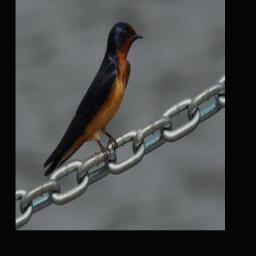Swallow: (43, 21, 145, 180)
